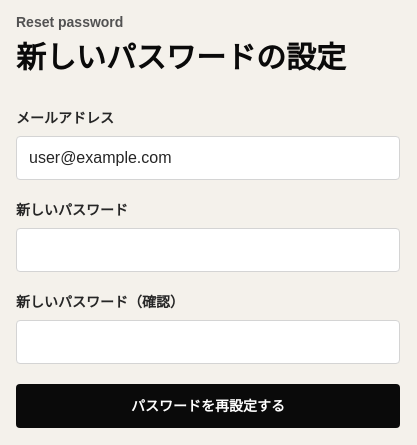
Test: ResetPasswordForm › 再設定できたら、ログインへの案内を出す
Type "new-password" into the password field labelled "新しいパスワード" at (208, 250), box [16,228,400,272]
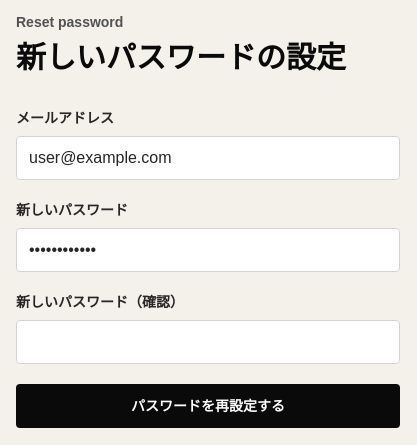
Type "new-password" into the password field labelled "新しいパスワード（確認）" at (208, 342), box [16,320,400,364]
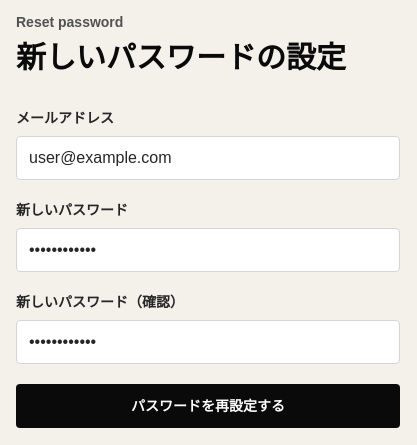
Click the button "パスワードを再設定する" at (208, 406), box [16,384,400,428]
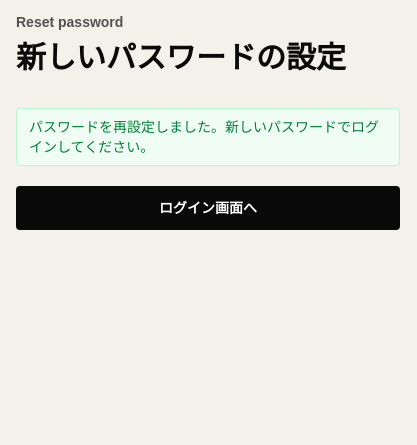
Expected: the text "パスワードを再設定しました。新しいパスワードでログインしてください。" is shown, [16,108,400,166]
